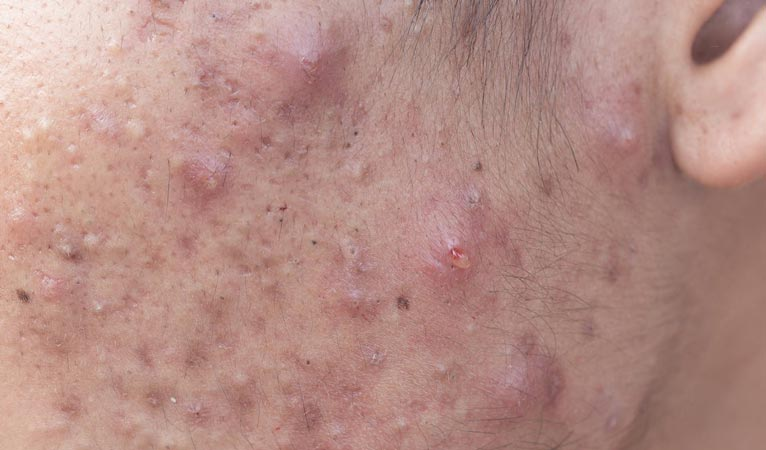jerawat: (15, 9, 661, 449)
